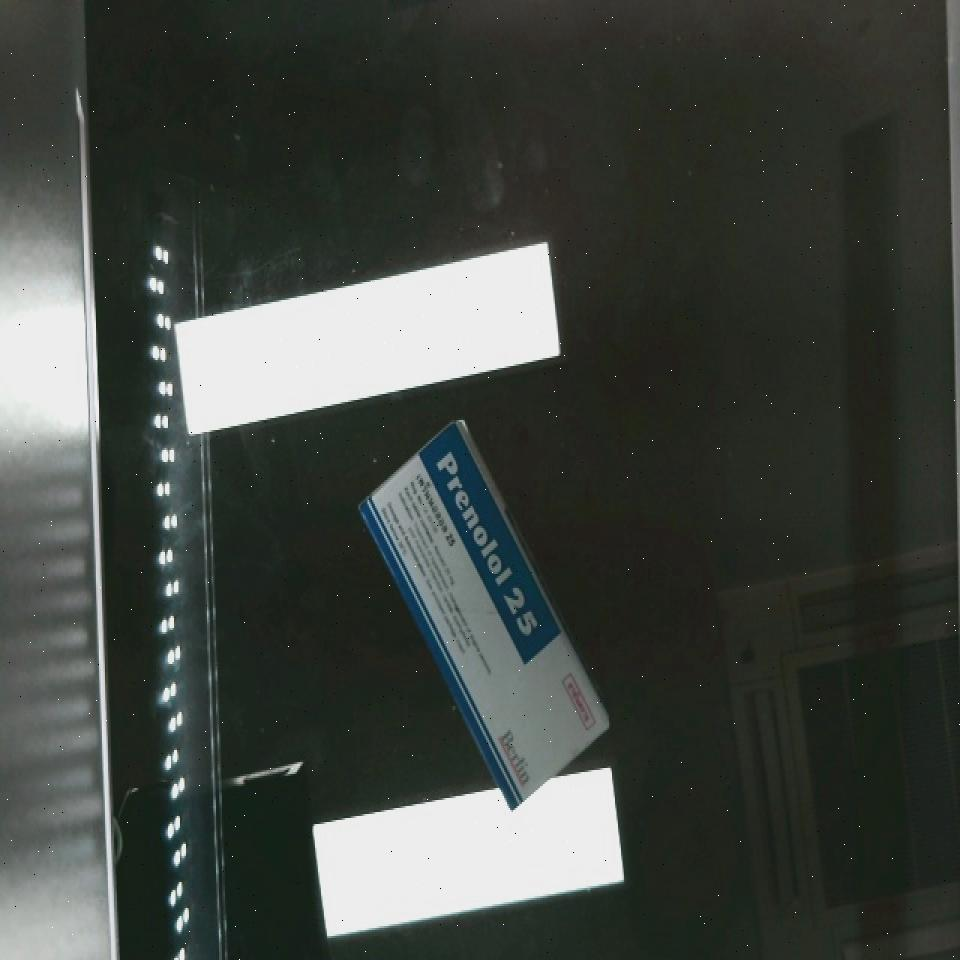medicine_box: (340, 423, 626, 816)
medicine_label_obb: (409, 420, 568, 670)
